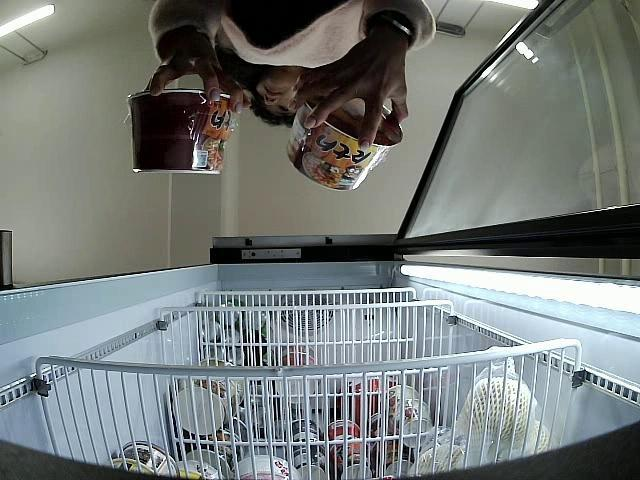05_nuguri_L: (284, 92, 404, 194), (126, 89, 236, 178)
